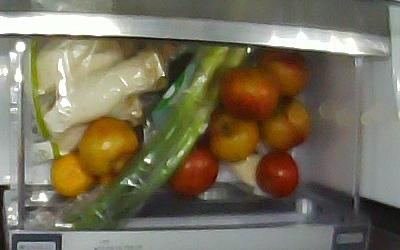prune: (77, 115, 139, 176), (217, 65, 280, 120), (256, 96, 313, 151), (206, 107, 260, 162), (166, 141, 219, 196), (257, 49, 312, 99), (254, 149, 299, 197)
tangerine: (50, 152, 95, 195)
